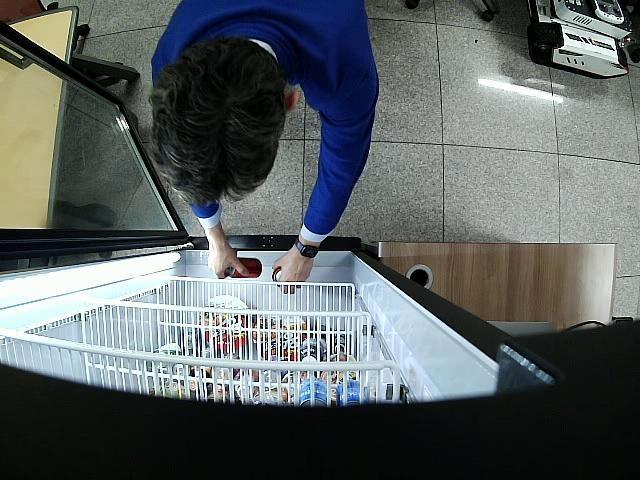11_cocaColaZero: (225, 257, 262, 278), (272, 266, 282, 287)
